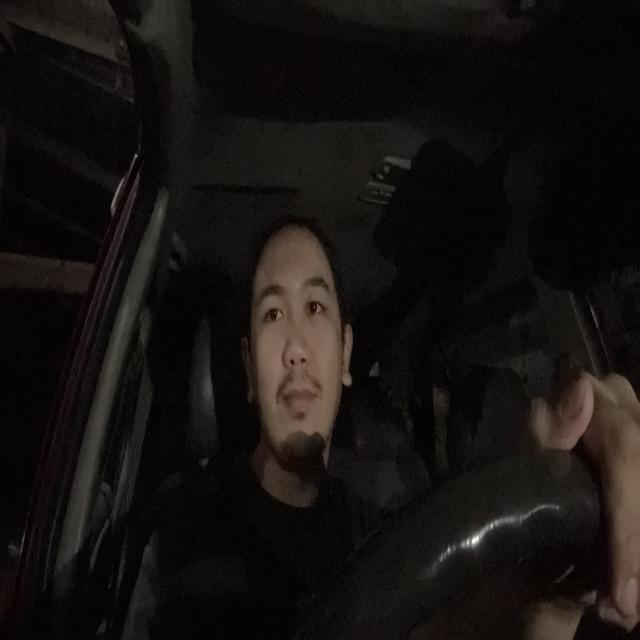open: (255, 280, 288, 337), (299, 273, 330, 327)
